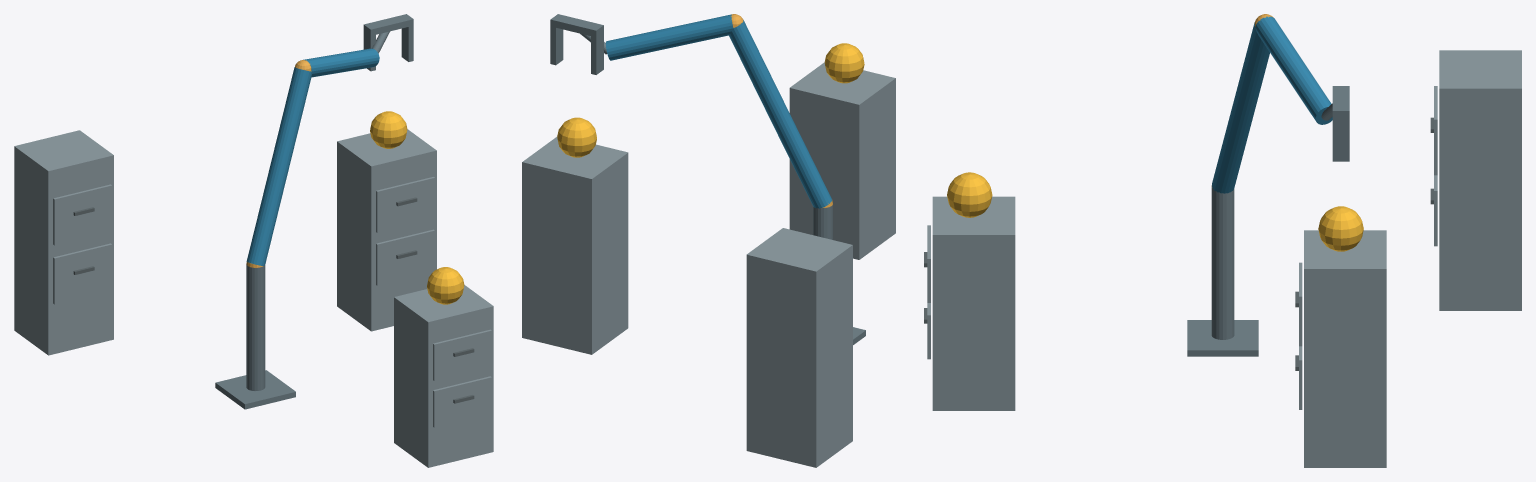
3 renders of one model, left to right at view 1: azimuth 30°, elevation 25°; view 2: azimuth 150°, elevation 25°; view 3: azimuth 270°, elevation 25°, orthographic. The views are drawn at different scales.
Visible parts, largest first — view 1: cabinet_3 body, cabinet_1 body, cabinet_2 body, moving link 1, cabinet_3 drawer front, cabinet_3 drawer front.001, cabinet_2 drawer front, cabinet_2 drawer front.001, fixed post, cabinet_1 drawer front.001, cabinet_1 drawer front, pedestal (+4 smaller); view 2: cabinet_3 body, cabinet_2 body, cabinet_1 body, moving link 1, moving link 2, released ball_1, ball ball_2, gripper bridge, fixed post, gripper finger 1, gripper finger -1; view 3: cabinet_3 body, cabinet_2 body, cabinet_1 body, moving link 1, fixed post, moving link 2, pedestal, ball ball_2, released ball_1, gripper finger 1.
Part boxes in pixels (x1,y1,x2,y2): cabinet_3 body: [14, 130, 113, 355]; cabinet_1 body: [394, 285, 493, 467]; cabinet_2 body: [337, 129, 436, 331]; moving link 1: [246, 67, 311, 266]; cabinet_3 drawer front: [53, 243, 112, 304]; cabinet_3 drawer front.001: [53, 184, 112, 245]; cabinet_2 drawer front: [376, 229, 434, 285]; cabinet_2 drawer front.001: [376, 177, 434, 232]; fixed post: [246, 265, 265, 390]; cabinet_1 drawer front.001: [433, 329, 491, 380]; cabinet_1 drawer front: [433, 376, 491, 427]; pedestal: [215, 370, 295, 409]; cabinet_3 body: [746, 228, 852, 467]; cabinet_2 body: [522, 136, 628, 354]; cabinet_1 body: [789, 62, 895, 259]; moving link 1: [729, 20, 831, 208]; moving link 2: [605, 14, 733, 60]; released ball_1: [824, 43, 864, 83]; ball ball_2: [557, 117, 596, 157]; gripper bridge: [550, 14, 603, 37]; fixed post: [813, 205, 832, 239]; gripper finger 1: [550, 26, 563, 65]; gripper finger -1: [591, 32, 603, 74]; cabinet_3 body: [1439, 50, 1521, 310]; cabinet_2 body: [1304, 230, 1386, 467]; cabinet_1 body: [932, 196, 1015, 410]; moving link 1: [1212, 22, 1269, 193]; fixed post: [1211, 187, 1234, 339]; moving link 2: [1255, 16, 1332, 124]; pedestal: [1187, 320, 1258, 356]; ball ball_2: [1318, 206, 1363, 251]; released ball_1: [947, 172, 992, 217]; gripper finger 1: [1332, 119, 1349, 161].
Bounding box in the file's own units: 1.62 × 1.41 × 2.1.
